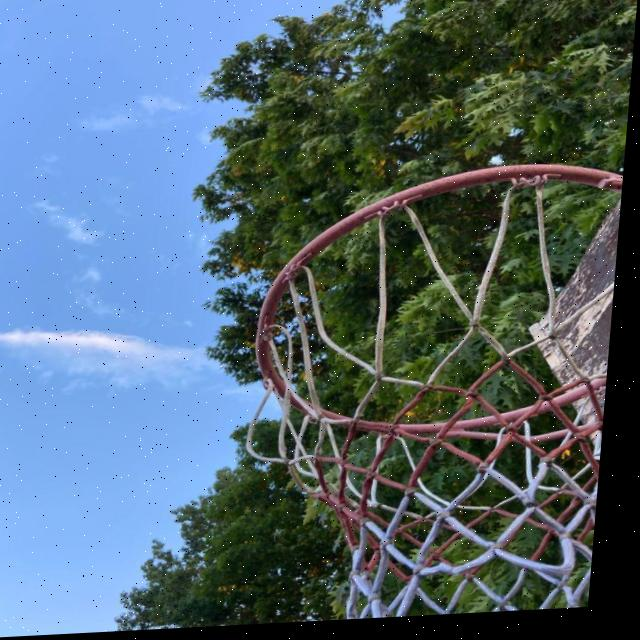hoop: (218, 160, 624, 609)
